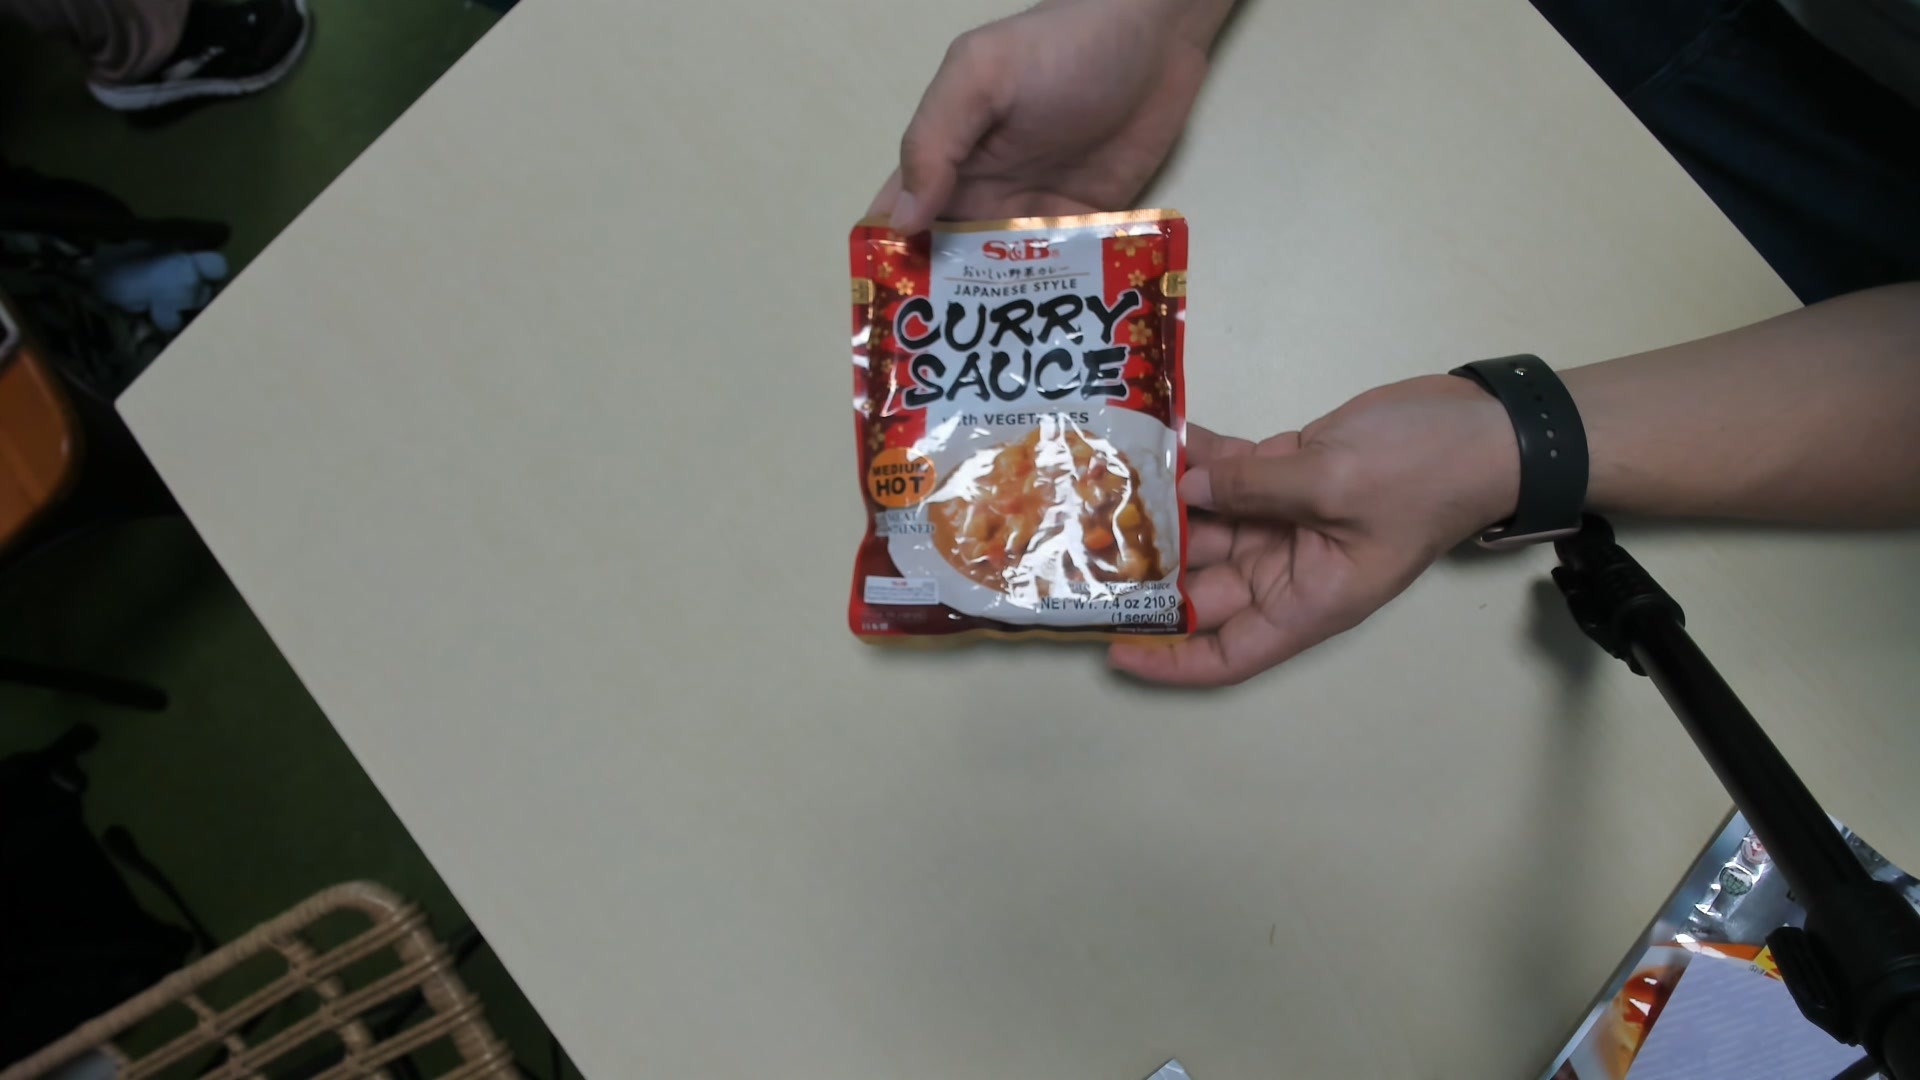CurryPastePowderSauce_200-299g_NonHalal_NonHealthy: (855, 214, 1197, 641)
